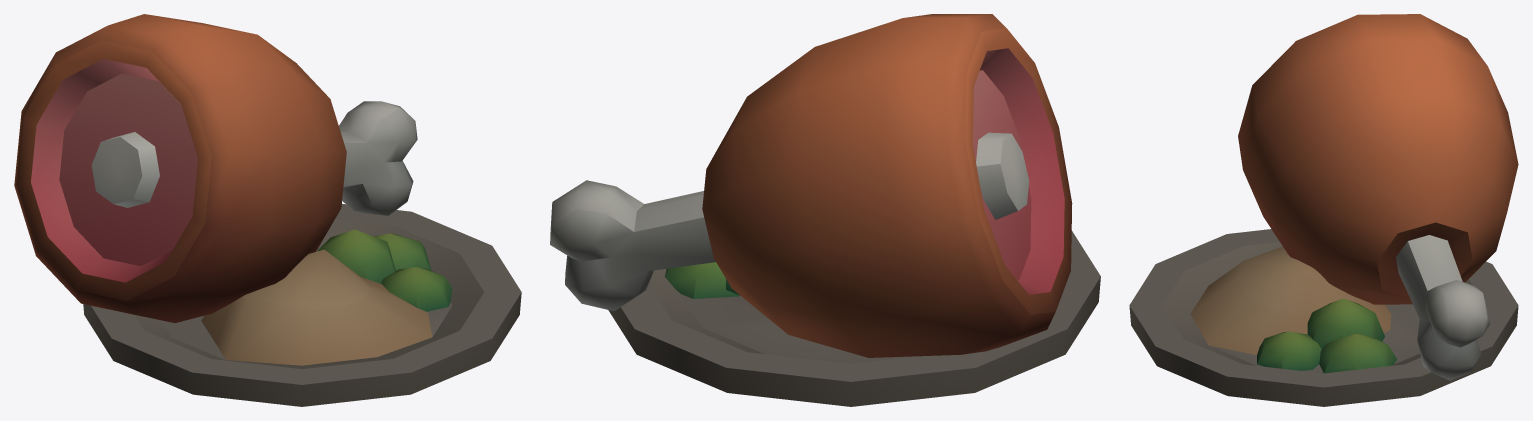
The model's file is plate-food-a.glb.
3 renders of one model, left to right at view 1: azimuth 30°, elevation 25°; view 2: azimuth 150°, elevation 25°; view 3: azimuth 270°, elevation 25°, orthographic. The views are drawn at different scales.
Visible parts, largest first — view 1: plate-food-a; view 2: plate-food-a; view 3: plate-food-a.
Boxes of the visible parts, bbox=[...] form: plate-food-a: bbox=[14, 14, 521, 406]; plate-food-a: bbox=[550, 14, 1100, 406]; plate-food-a: bbox=[1129, 14, 1518, 406].
Bounding box in the file's own units: 0.3384 × 0.26 × 0.3204.
